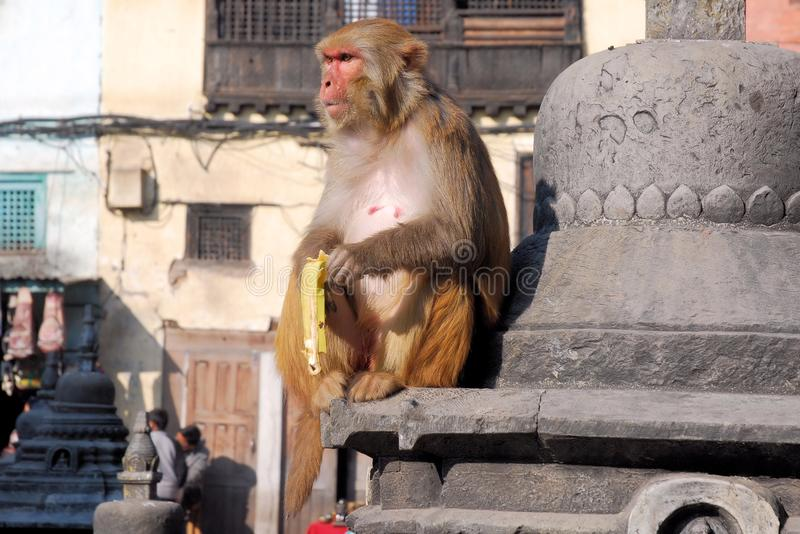monkey: (256, 6, 529, 511)
